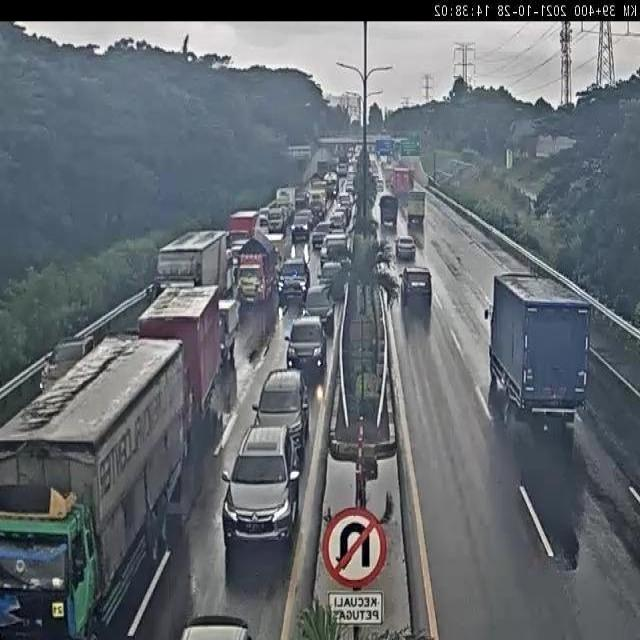Car: (219, 426, 303, 548), (248, 366, 312, 455), (284, 315, 328, 376), (43, 334, 96, 368), (277, 256, 311, 305), (301, 284, 337, 330), (399, 265, 434, 305), (321, 233, 350, 271), (316, 262, 346, 296), (310, 222, 332, 252), (290, 215, 310, 243), (395, 236, 416, 261), (377, 240, 394, 263), (294, 188, 310, 210), (329, 210, 345, 230), (337, 192, 352, 213), (258, 206, 271, 226), (346, 178, 356, 196), (376, 178, 384, 189)
Truck: (0, 331, 190, 640), (482, 270, 592, 426), (136, 281, 222, 419), (151, 226, 228, 302), (234, 230, 276, 304), (217, 295, 241, 362), (228, 210, 258, 247), (230, 237, 252, 269), (406, 189, 426, 223), (379, 194, 399, 227), (340, 202, 358, 238), (267, 204, 288, 233), (275, 187, 297, 214), (265, 234, 286, 262), (393, 166, 411, 196), (316, 158, 334, 179), (382, 164, 394, 189)
